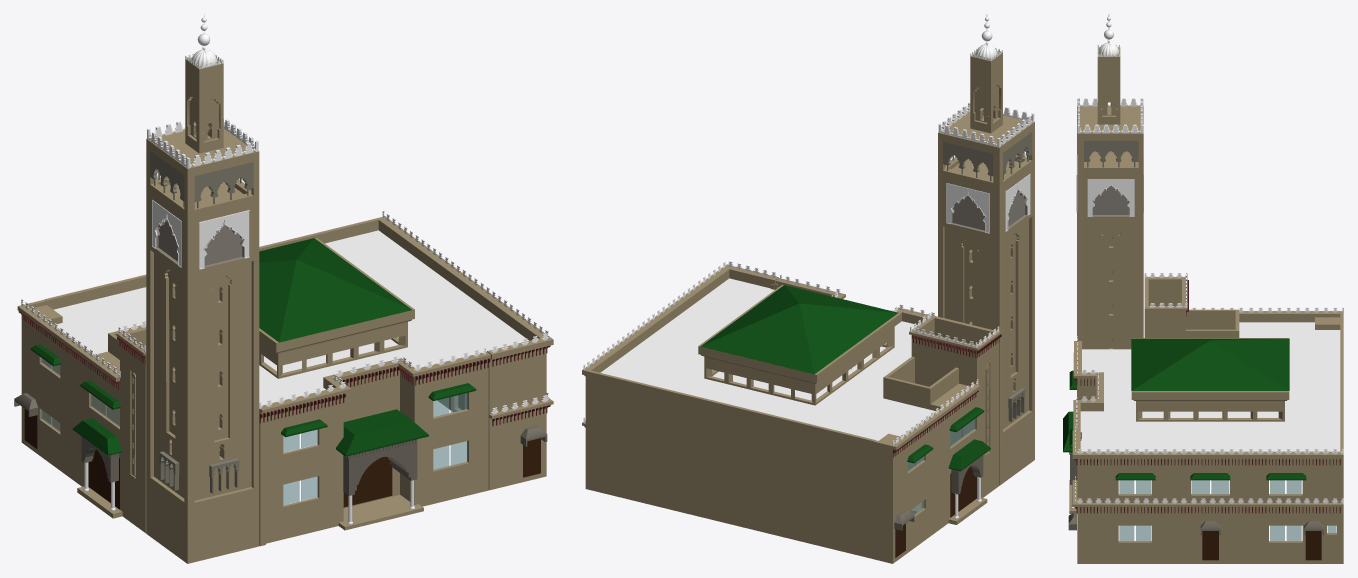
File: asset.glb
3 renders of one model, left to right at view 1: azimuth 30°, elevation 25°; view 2: azimuth 150°, elevation 25°; view 3: azimuth 270°, elevation 25°, orthographic. The views are drawn at different scales.
Visible parts, largest first — view 1: Object_5, Object_4, Object_25, Object_6, Object_7, Object_9, Object_8, Object_15, Object_17, Object_23, Object_22, Object_11 (+6 smaller); view 2: Object_5, Object_4, Object_25, Object_6, Object_7, Object_15, Object_23, Object_22, Object_27, Object_3, Object_9, Object_11; view 3: Object_5, Object_4, Object_25, Object_6, Object_7, Object_15, Object_8, Object_23, Object_14, Object_9, Object_22, Object_27 (+3 smaller).
Part boxes in pixels (x1=…): Object_5: x1=17, y1=57, x2=553, y2=563; Object_4: x1=53, y1=230, x2=528, y2=405; Object_25: x1=30, y1=238, x2=476, y2=456; Object_6: x1=24, y1=63, x2=540, y2=526; Object_7: x1=131, y1=59, x2=423, y2=530; Object_9: x1=24, y1=394, x2=540, y2=509; Object_8: x1=41, y1=358, x2=467, y2=504; Object_15: x1=21, y1=210, x2=549, y2=414; Object_17: x1=14, y1=393, x2=547, y2=495; Object_23: x1=152, y1=200, x2=249, y2=269; Object_22: x1=150, y1=151, x2=253, y2=208; Object_11: x1=19, y1=311, x2=550, y2=425; Object_5: x1=582, y1=51, x2=1034, y2=563; Object_4: x1=600, y1=278, x2=935, y2=440; Object_25: x1=700, y1=285, x2=990, y2=471; Object_6: x1=698, y1=56, x2=1027, y2=561; Object_7: x1=699, y1=53, x2=1031, y2=452; Object_15: x1=583, y1=261, x2=999, y2=446; Object_23: x1=946, y1=173, x2=1030, y2=233; Object_22: x1=943, y1=132, x2=1032, y2=181; Object_27: x1=938, y1=47, x2=1034, y2=147; Object_3: x1=951, y1=190, x2=1026, y2=231; Object_9: x1=895, y1=466, x2=976, y2=557; Object_11: x1=584, y1=334, x2=1001, y2=457; Object_5: x1=1072, y1=47, x2=1343, y2=563; Object_4: x1=1080, y1=322, x2=1340, y2=451; Object_25: x1=1063, y1=338, x2=1306, y2=480; Object_6: x1=1069, y1=83, x2=1340, y2=563; Object_7: x1=1069, y1=57, x2=1340, y2=513; Object_15: x1=1075, y1=273, x2=1343, y2=503; Object_8: x1=1119, y1=480, x2=1336, y2=541; Object_23: x1=1076, y1=155, x2=1143, y2=216; Object_14: x1=1076, y1=280, x2=1340, y2=513; Object_9: x1=1202, y1=531, x2=1321, y2=560; Object_22: x1=1084, y1=141, x2=1138, y2=167; Object_27: x1=1077, y1=44, x2=1143, y2=133.
Size of the model in its own units: 1.63 by 2.16 by 1.3.
Materials: 16 (1 with a texture image).
